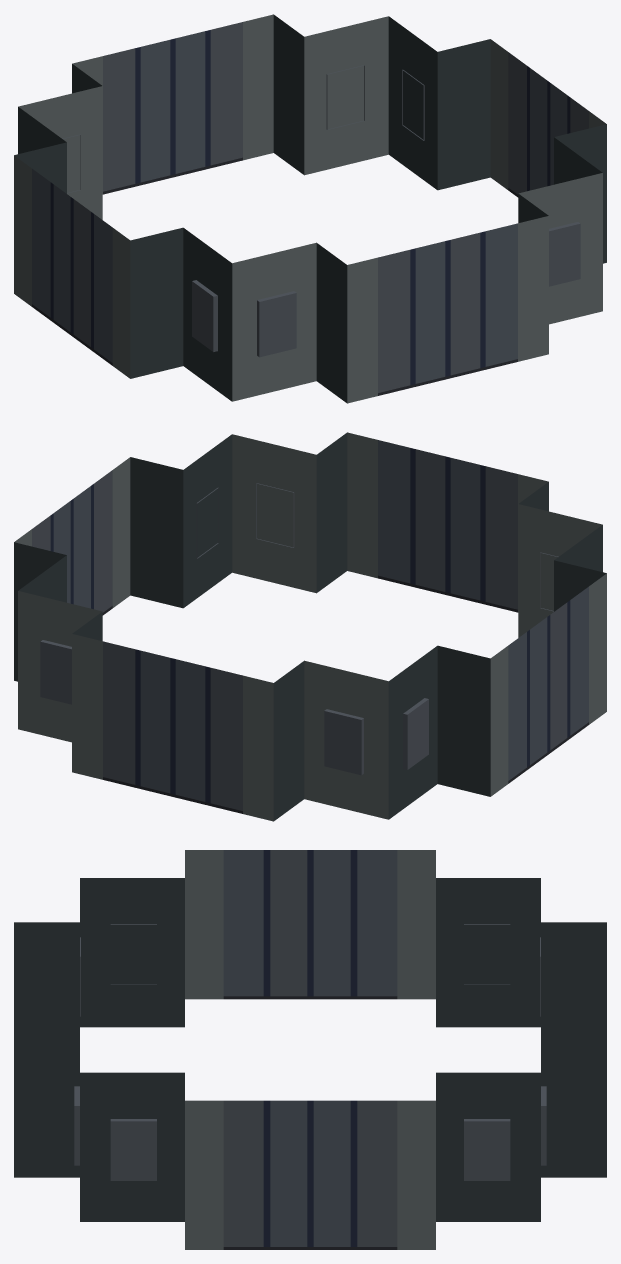
File: TB_CITY_Skysc_F_BodyB_Gray.FBX
3 renders of one model, top to bottom at view 1: azimuth 30°, elevation 25°; view 2: azimuth 150°, elevation 25°; view 3: azimuth 270°, elevation 25°, orthographic. The views are drawn at different scales.
Visible parts, largest first — view 1: TB_CITY_Skysc_F_BodyB_Gray; view 2: TB_CITY_Skysc_F_BodyB_Gray; view 3: TB_CITY_Skysc_F_BodyB_Gray.
Part boxes in pixels (<box>): TB_CITY_Skysc_F_BodyB_Gray: <box>14,14,606,403</box>; TB_CITY_Skysc_F_BodyB_Gray: <box>14,432,606,821</box>; TB_CITY_Skysc_F_BodyB_Gray: <box>14,850,606,1249</box>.
Size of the model in its own units: 18 by 5 by 18.
